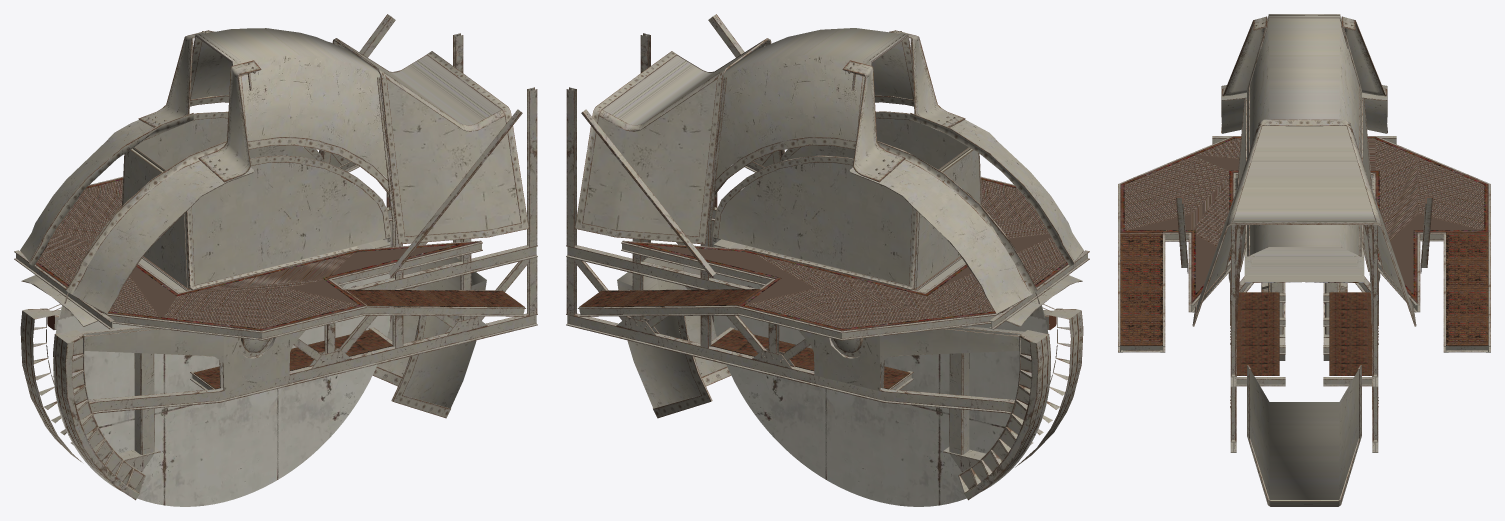
The model's file is bucket_excavator_arm_end.glb.
The picture shows the model from 3 angles, left to right: view 1: azimuth 30°, elevation 25°; view 2: azimuth 150°, elevation 25°; view 3: azimuth 270°, elevation 25°; orthographic projection. The views are drawn at different scales.
Parts seen in each view (by area): view 1: bucket_excavator_arm_end_LOD0; view 2: bucket_excavator_arm_end_LOD0; view 3: bucket_excavator_arm_end_LOD0.
Part boxes in pixels (left/top/right/bottom): bucket_excavator_arm_end_LOD0: left=14, top=14, right=537, bottom=506; bucket_excavator_arm_end_LOD0: left=566, top=14, right=1089, bottom=506; bucket_excavator_arm_end_LOD0: left=1118, top=14, right=1490, bottom=506.
Bounding box in the file's own units: 17.85 × 16.68 × 13.17.
6 materials, 6 textured.
